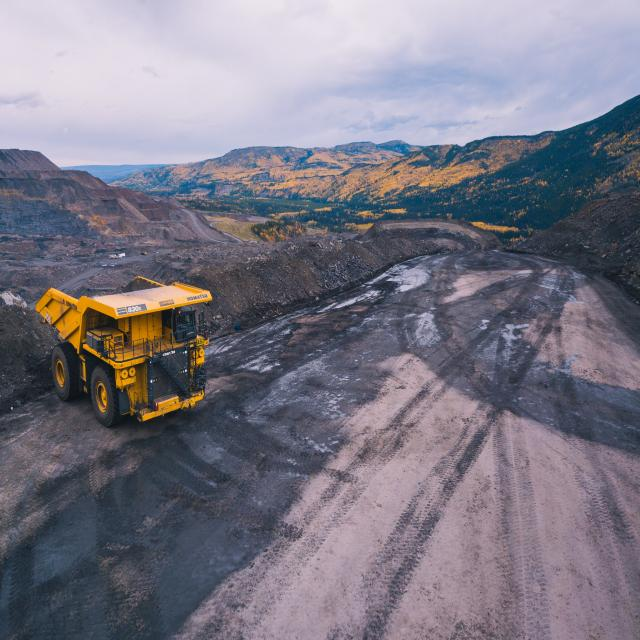dump_truck: (30, 266, 216, 432)
